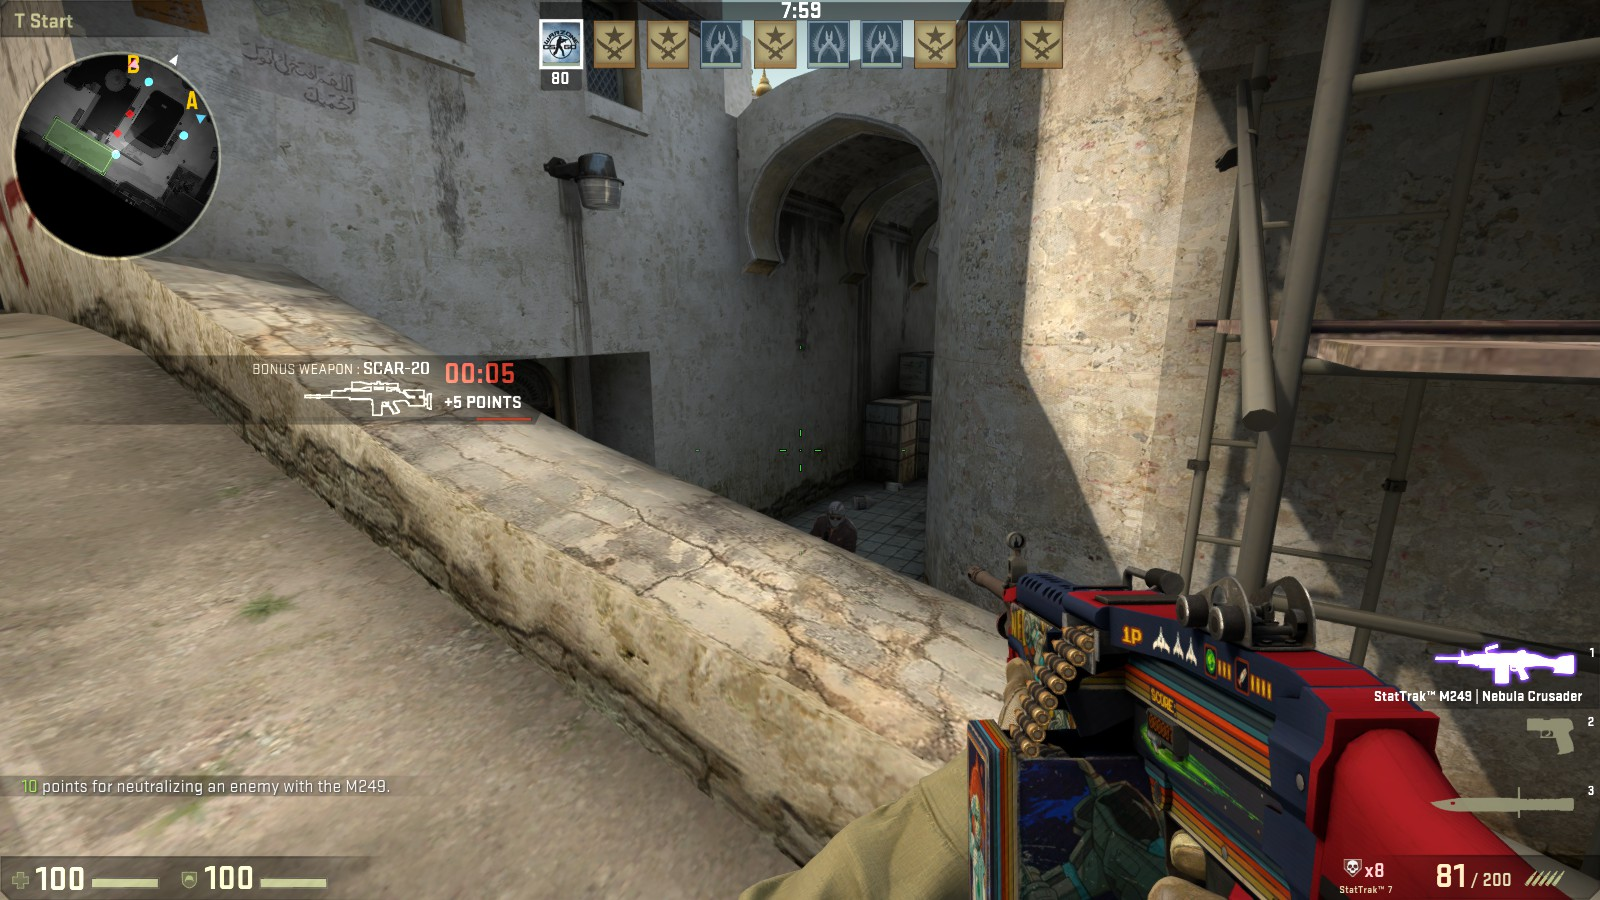th: (821, 498, 851, 536)
